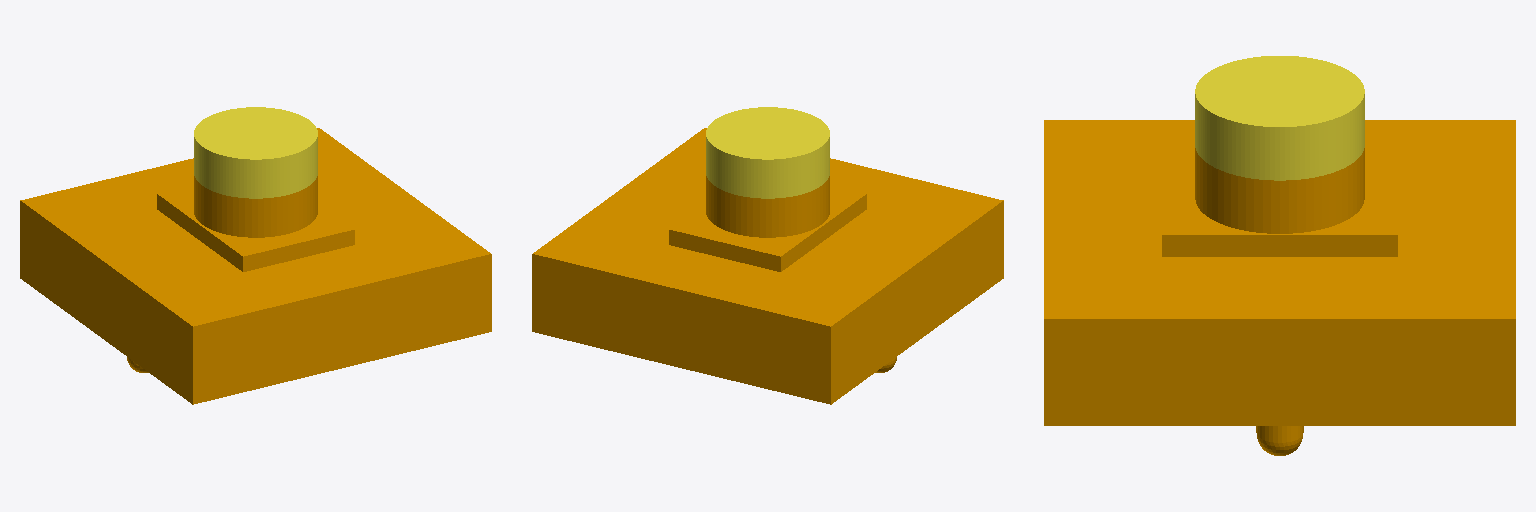
The robot description file, URDF, robot "diff_drive_robot":
<?xml version="1.0" ?>
<robot name="diff_drive_robot">

<material name="silver">
  <color rgba="0.700 0.700 0.700 1.000"/>
</material>

<material name="black">
  <color rgba="0.000 0.000 0.000 1.000"/>
</material>

<material name="blue">
  <color rgba="0.200 0.200 0.700 1.000"/>
</material>



<link name="base_link">
  <inertial>
    <origin xyz="7.490538556880416e-15 -1.6608732942085177e-17 0.05301102205778272" rpy="0 0 0"/>
    <mass value="5.0"/>
    <inertia ixx="0.00792936392700691" iyy="0.007981550452301558" izz="0.014388612844448806" ixy="-3.0850060284140614e-18" iyz="-5.1292475611717116e-18" ixz="7.01375000242246e-16"/>
  </inertial>
  <visual>
    <origin xyz="0 0 0" rpy="0 0 0"/>
    <geometry>
      <mesh filename="meshes/base_link.stl" scale="0.001 0.001 0.001"/>
    </geometry>
    <material name="silver"/>
    <material/>
  </visual>
  <collision>
    <origin xyz="0 0 0" rpy="0 0 0"/>
    <geometry>
      <mesh filename="meshes/base_link.stl" scale="0.001 0.001 0.001"/>
    </geometry>
  </collision>
</link>

<link name="right_wheel1">
  <inertial>
    <origin xyz="-5.790023100122029e-18 -0.012499999999999997 0.0" rpy="0 0 0"/>
    <mass value="0.1826050729899067"/>
    <inertia ixx="0.00012363885150357785" iyy="0.00022825634123738002" izz="0.00012363885150358436" ixy="-2.907540874730328e-20" iyz="0.0" ixz="3.171862772433087e-20"/>
  </inertial>
  <visual>
    <origin xyz="-0.0 0.1 -0.05" rpy="0 0 0"/>
    <geometry>
      <mesh filename="meshes/right_wheel1.stl" scale="0.001 0.001 0.001"/>
    </geometry>
    <material name="black"/>
    <material/>
  </visual>
  <collision>
    <origin xyz="-0.0 0.1 -0.05" rpy="0 0 0"/>
    <geometry>
      <mesh filename="meshes/right_wheel1.stl" scale="0.001 0.001 0.001"/>
    </geometry>
  </collision>
</link>

<link name="left_wheel1">
  <inertial>
    <origin xyz="-5.790023100122029e-18 0.012499999999999997 0.0" rpy="0 0 0"/>
    <mass value="0.1826050729899067"/>
    <inertia ixx="0.00012363885150357742" iyy="0.00022825634123738002" izz="0.00012363885150358392" ixy="7.136691237974444e-20" iyz="-2.168404344971009e-19" ixz="3.171862772433087e-20"/>
  </inertial>
  <visual>
    <origin xyz="-0.0 -0.1 -0.05" rpy="0 0 0"/>
    <geometry>
      <mesh filename="meshes/left_wheel1.stl" scale="0.001 0.001 0.001"/>
    </geometry>
    <material name="black"/>
    <material/>
  </visual>
  <collision>
    <origin xyz="-0.0 -0.1 -0.05" rpy="0 0 0"/>
    <geometry>
      <mesh filename="meshes/left_wheel1.stl" scale="0.001 0.001 0.001"/>
    </geometry>
  </collision>
</link>

<link name="lidar1">
  <inertial>
    <origin xyz="-5.584513020951031e-18 5.584513020951031e-18 0.012499999999999997" rpy="0 0 0"/>
    <mass value="0.10789485809488784"/>
    <inertia ixx="4.0577457881851116e-05" iyy="4.057745788185285e-05" izz="6.99158680454863e-05" ixy="-3.3648938155056915e-36" iyz="-5.2722270993399435e-20" ixz="4.51905179943424e-21"/>
  </inertial>
  <visual>
    <origin xyz="-0.0 -0.0 -0.11" rpy="0 0 0"/>
    <geometry>
      <mesh filename="meshes/lidar1.stl" scale="0.001 0.001 0.001"/>
    </geometry>
    <material name="blue"/>
    <material/>
  </visual>
  <collision>
    <origin xyz="-0.0 -0.0 -0.11" rpy="0 0 0"/>
    <geometry>
      <mesh filename="meshes/lidar1.stl" scale="0.001 0.001 0.001"/>
    </geometry>
  </collision>
</link>

<joint name="Revolute_1" type="continuous">
  <origin xyz="0.0 -0.1 0.05" rpy="0 0 0"/>
  <parent link="base_link"/>
  <child link="right_wheel1"/>
  <axis xyz="0.0 -1.0 0.0"/>
</joint>
<transmission name="Revolute_1_tran">
  <type>transmission_interface/SimpleTransmission</type>
  <joint name="Revolute_1">
    <hardwareInterface>PositionJointInterface</hardwareInterface>
  </joint>
  <actuator name="Revolute_1_actr">
    <hardwareInterface>PositionJointInterface</hardwareInterface>
    <mechanicalReduction>1</mechanicalReduction>
  </actuator>
</transmission>

<joint name="Revolute_2" type="continuous">
  <origin xyz="0.0 0.1 0.05" rpy="0 0 0"/>
  <parent link="base_link"/>
  <child link="left_wheel1"/>
  <axis xyz="0.0 1.0 0.0"/>
</joint>
<transmission name="Revolute_2_tran">
  <type>transmission_interface/SimpleTransmission</type>
  <joint name="Revolute_2">
    <hardwareInterface>PositionJointInterface</hardwareInterface>
  </joint>
  <actuator name="Revolute_2_actr">
    <hardwareInterface>PositionJointInterface</hardwareInterface>
    <mechanicalReduction>1</mechanicalReduction>
  </actuator>
</transmission>

<joint name="Rigid_3" type="fixed">
  <origin xyz="0.0 0.0 0.11" rpy="0 0 0"/>
  <parent link="base_link"/>
  <child link="lidar1"/>
</joint>

</robot>

--- Render facts (derived) ---
The picture shows the robot from 3 angles, left to right: view 1: azimuth 30°, elevation 25°; view 2: azimuth 150°, elevation 25°; view 3: azimuth 270°, elevation 25°; orthographic projection.
Robot: diff_drive_robot — 4 links, 3 joints (2 continuous, 1 fixed); root link base_link; default pose: every joint at zero.
Visible links, largest first — view 1: base_link, lidar1; view 2: base_link, lidar1; view 3: base_link, lidar1.
Boxes of the visible links, x1,y1,x2,y2 form: base_link: (20, 128, 491, 404); lidar1: (194, 107, 317, 198); base_link: (532, 128, 1003, 404); lidar1: (706, 107, 829, 198); base_link: (1044, 120, 1515, 455); lidar1: (1195, 56, 1364, 180).
Bounding box of the posed robot: 0.2 × 0.2 × 0.135 m (x, y, z).
Meshes: 4 distinct files referenced, 2 mesh visuals loaded (2 binary STL); not drawn: 2 (reference not matched to a file when rendering).